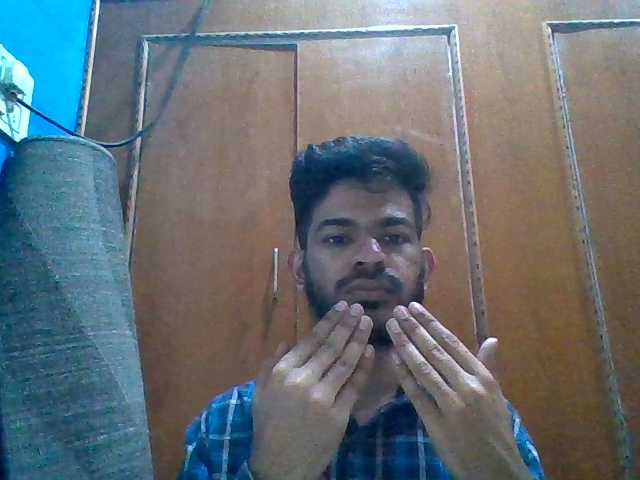thanks: (247, 296, 524, 480)
